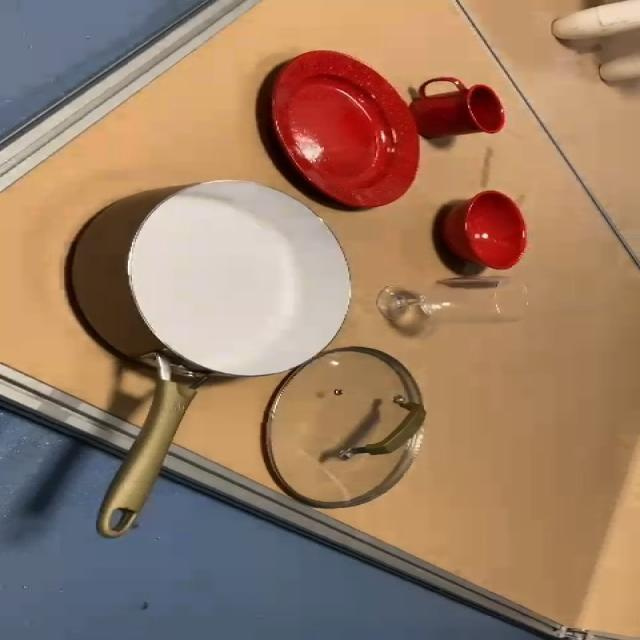Bowl: (437, 190, 530, 272)
Glass: (373, 277, 535, 334)
Plate: (257, 52, 425, 208)
cup: (405, 77, 507, 140)
pot: (72, 180, 353, 525)
